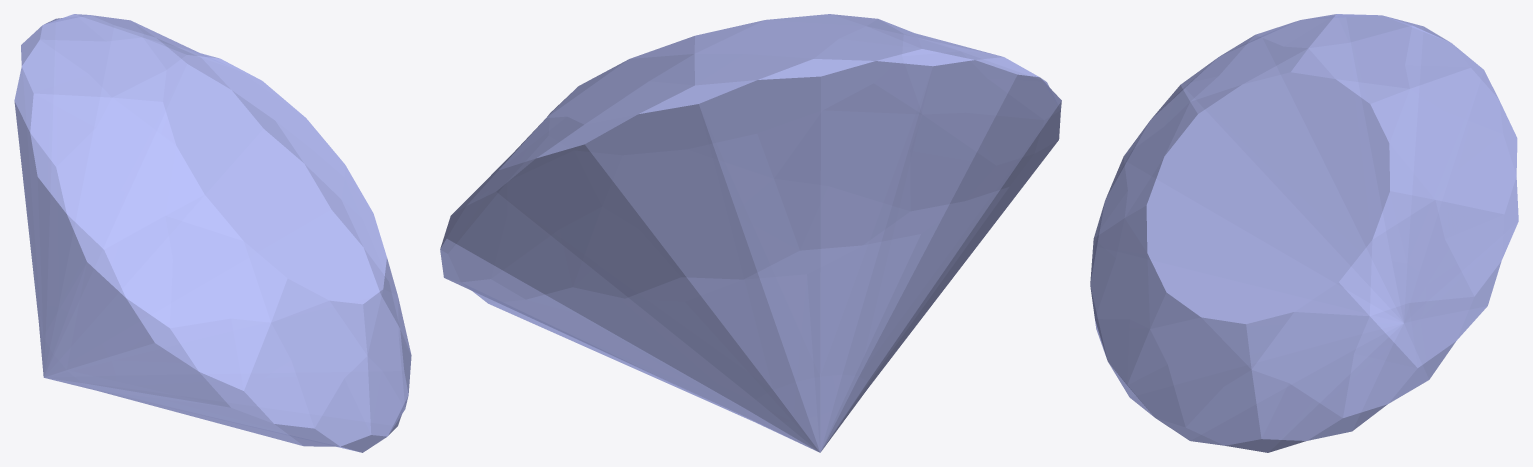
Rendered from Diamond V01.glb.
3 renders of one model, left to right at view 1: azimuth 30°, elevation 25°; view 2: azimuth 150°, elevation 25°; view 3: azimuth 270°, elevation 25°, orthographic. The views are drawn at different scales.
Parts seen in each view (by area): view 1: Diamond V01 - 3000; view 2: Diamond V01 - 3000; view 3: Diamond V01 - 3000.
Boxes of the visible parts, bbox=[...] form: Diamond V01 - 3000: bbox=[14, 14, 411, 452]; Diamond V01 - 3000: bbox=[440, 14, 1061, 452]; Diamond V01 - 3000: bbox=[1090, 14, 1518, 452].
Bounding box in the file's own units: 0.1498 × 0.127 × 0.1571.
Materials: 1 (1 with a texture image).
